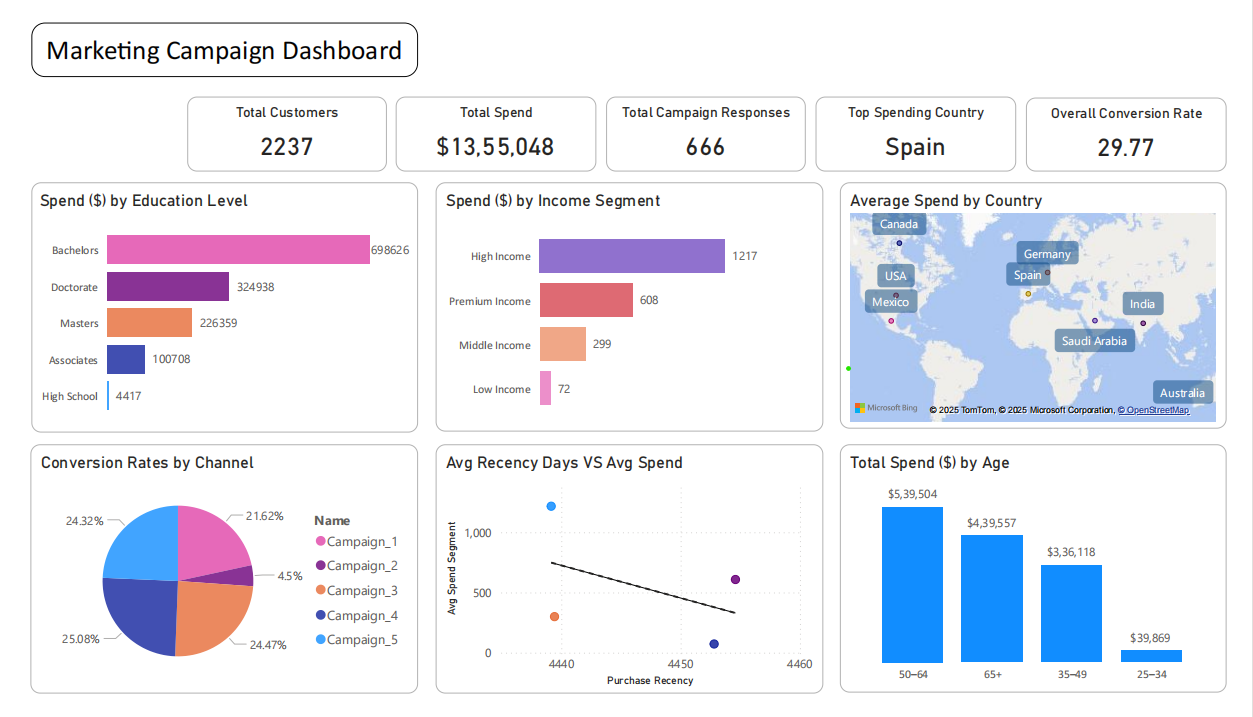

The page's visual inventory and layout, read from the dashboard file:
{"tool":"powerbi","page":{"name":"Page 1","canvas":[1280,720],"ordinal":0},"visuals":[{"type":"card","title":"Total Spend","fields":{"Values":["02_Cleaned_Data.Total_Spend"]},"box":[400,88.6,205.7,77.1],"z":0},{"type":"clusteredBarChart","title":"Spend ($) by Education Level","fields":{"Category":["Edu_Spend.Education"],"Y":["Sum(Edu_Spend.Sum_Spend_By_Edu)"]},"box":[25.7,177.1,397.1,257.1],"z":1000},{"type":"clusteredBarChart","title":"Spend ($) by Income Segment","fields":{"Y":["Sum(Recency_Spend.Avg_Spend_Segment)"],"Category":["Recency_Spend.Income_Segment"]},"box":[441.4,177.1,397.1,255.7],"z":2000},{"type":"map","title":"Average Spend by Country","fields":{"Category":["Geography_Spend.Country"],"Series":["Geography_Spend.Country"]},"box":[855.7,177.1,397.1,252.9],"z":4000},{"type":"pieChart","title":"Conversion Rates by Channel","fields":{"Category":["Conversion.Name"],"Y":["Sum(Conversion.Conversion_Rate)"]},"box":[25,445.6,397.5,256.2],"z":5000},{"type":"scatterChart","title":"Avg Recency Days VS Avg Spend","fields":{"X":["Recency_Spend.Avg_Recency_Segment"],"Y":["Recency_Spend.Avg_Spend_Segment"],"Series":["Recency_Spend.Income_Segment"]},"box":[441.2,445.6,397.5,256.2],"z":6000},{"type":"shape","box":[25.7,12.9,397.1,55.7],"z":7000},{"type":"card","title":"Top Spending Country","fields":{"Values":["Geography_Spend.Top_Spending_Country"]},"box":[831.4,88.6,205.7,77.1],"z":8000},{"type":"card","title":"Total Campaign Responses","fields":{"Values":["Sum(Conversion.Responses)"]},"box":[615.7,88.6,205.7,77.1],"z":9000},{"type":"card","title":"Total Customers","fields":{"Values":["02_Cleaned_Data.Total Customers"]},"box":[185.7,88.6,205.7,77.1],"z":10000},{"type":"card","title":"Overall Conversion Rate","fields":{"Values":["Sum(Conversion.Conversion_Rate)"]},"box":[1047.1,90,205.7,75.7],"z":11000},{"type":"columnChart","title":"Total Spend ($) by Age","fields":{"Category":["02_Cleaned_Data.Age_Group"],"Y":["02_Cleaned_Data.Total_Spend"]},"box":[855.7,445.7,397.1,255.7],"z":11002}]}

Visuals, with their boxes in screenshot pixels (x1, y1, x2, y2), scaled from the page's 1280x720 canvas onto the 1253x717 screenshot:
"Total Spend" card: <box>392,88,593,165</box>
"Spend ($) by Education Level" clusteredBarChart: <box>25,176,414,432</box>
"Spend ($) by Income Segment" clusteredBarChart: <box>432,176,821,431</box>
"Average Spend by Country" map: <box>838,176,1226,428</box>
"Conversion Rates by Channel" pieChart: <box>24,444,414,699</box>
"Avg Recency Days VS Avg Spend" scatterChart: <box>432,444,821,699</box>
shape: <box>25,13,414,68</box>
"Top Spending Country" card: <box>814,88,1015,165</box>
"Total Campaign Responses" card: <box>603,88,804,165</box>
"Total Customers" card: <box>182,88,383,165</box>
"Overall Conversion Rate" card: <box>1025,90,1226,165</box>
"Total Spend ($) by Age" columnChart: <box>838,444,1226,698</box>
